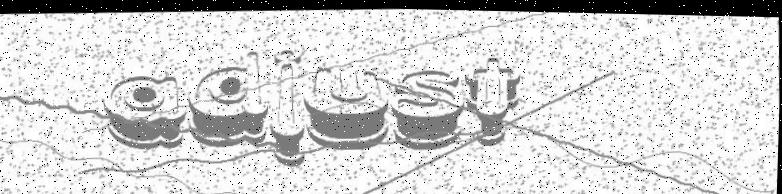a: (100, 72, 190, 151)
d: (186, 47, 273, 148)
i: (267, 47, 309, 166)
s: (388, 65, 468, 150)
t: (462, 52, 525, 146)
u: (301, 62, 393, 152)
